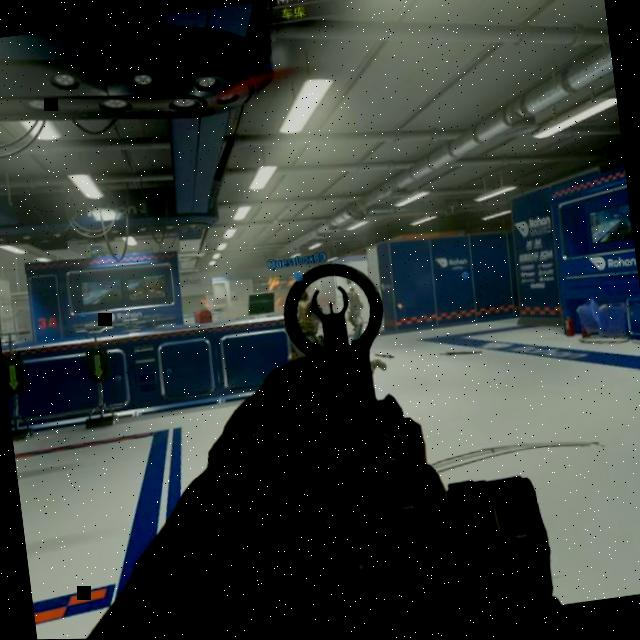MW2_body: (346, 286, 366, 331)
